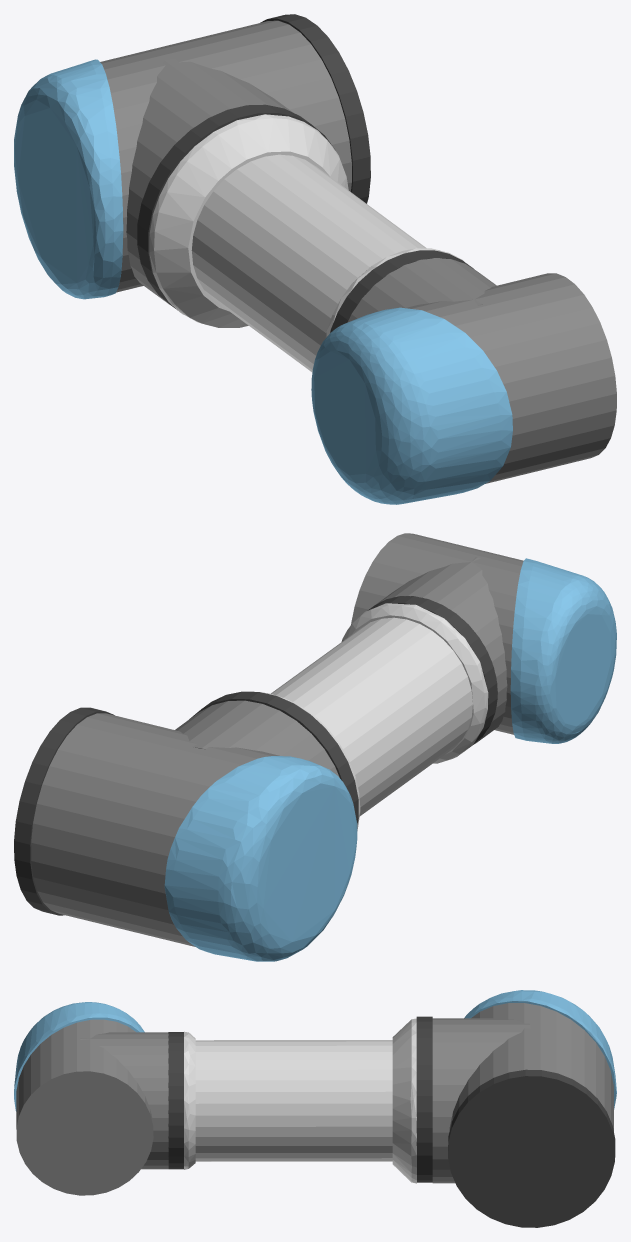
File: ur3_robot_link3_visible__43__.dae
The picture shows the model from 3 angles, top to bottom: view 1: azimuth 30°, elevation 25°; view 2: azimuth 150°, elevation 25°; view 3: azimuth 270°, elevation 25°; orthographic projection. The views are drawn at different scales.
Visible parts, largest first — view 1: Node_0000014D8EC09E80 (×10); view 2: Node_0000014D8EC09E80 (×10); view 3: Node_0000014D8EC09E80 (×10).
Boxes of the visible parts, x1,y1,x2,y2 form: Node_0000014D8EC09E80 (×10): [14, 14, 616, 504]; Node_0000014D8EC09E80 (×10): [14, 533, 616, 961]; Node_0000014D8EC09E80 (×10): [14, 990, 616, 1227].
Size of the model in its own units: 0.1232 by 0.092 by 0.3289.
